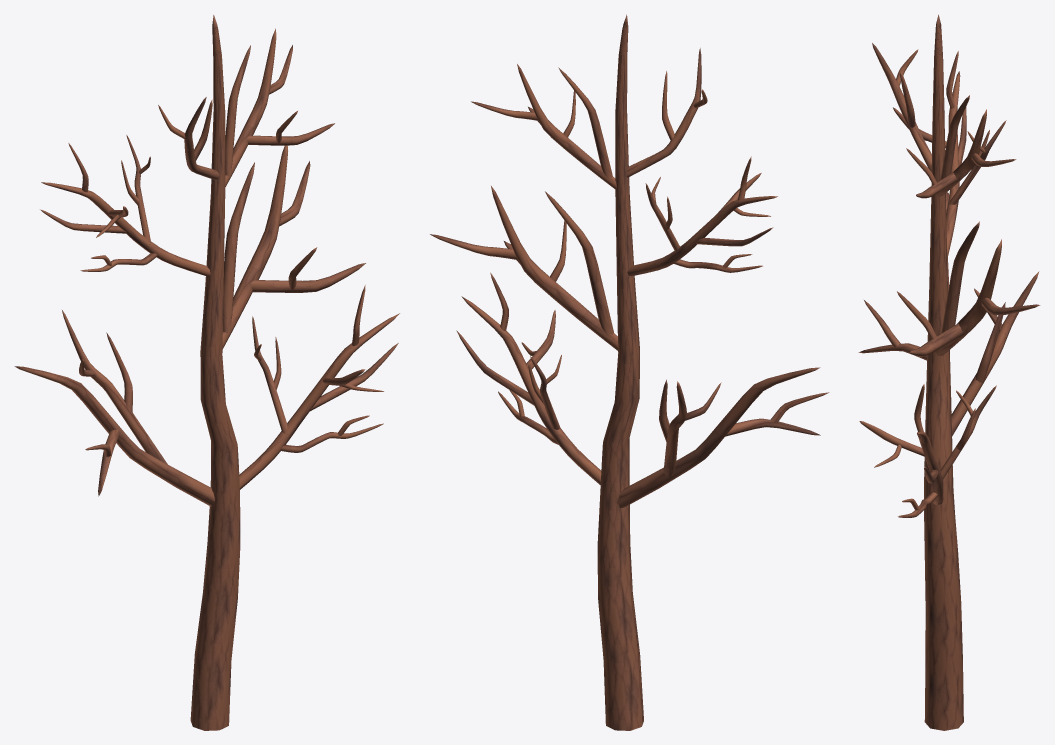
The model's file is DeadTree_2.glb.
3 views of the same model, side by side, from view 1: azimuth 30°, elevation 25°; view 2: azimuth 150°, elevation 25°; view 3: azimuth 270°, elevation 25° (orthographic).
Visible parts, largest first — view 1: DeadTree_2; view 2: DeadTree_2; view 3: DeadTree_2.
Boxes of the visible parts, x1,y1,x2,y2 form: DeadTree_2: (14,15,399,730); DeadTree_2: (430,14,829,730); DeadTree_2: (858,14,1040,730).
Size of the model in its own units: 3.42 by 6.2 by 1.45.
Materials: 1 (1 with a texture image).
